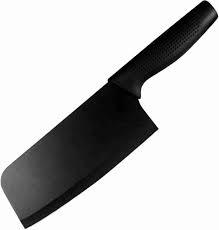Knife: (0, 0, 218, 228)
